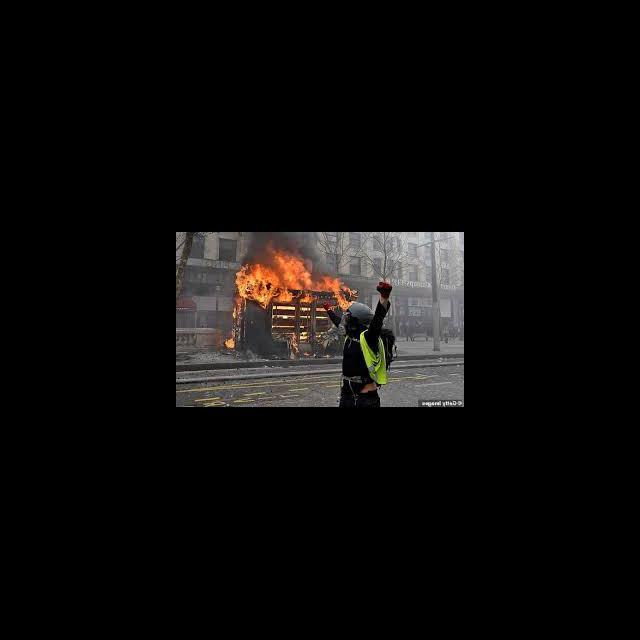Fire: (232, 246, 362, 316), (220, 335, 237, 352)
Smoke: (243, 232, 320, 246)
